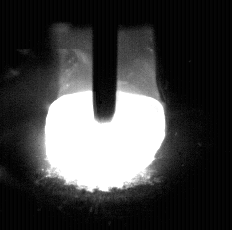arame: (94, 0, 116, 123)
poca: (43, 0, 166, 230)
